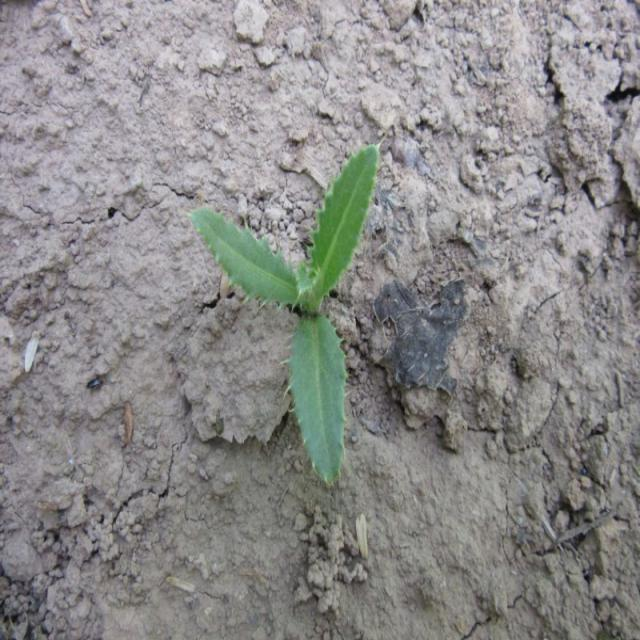field_thistle: (173, 146, 380, 475)
